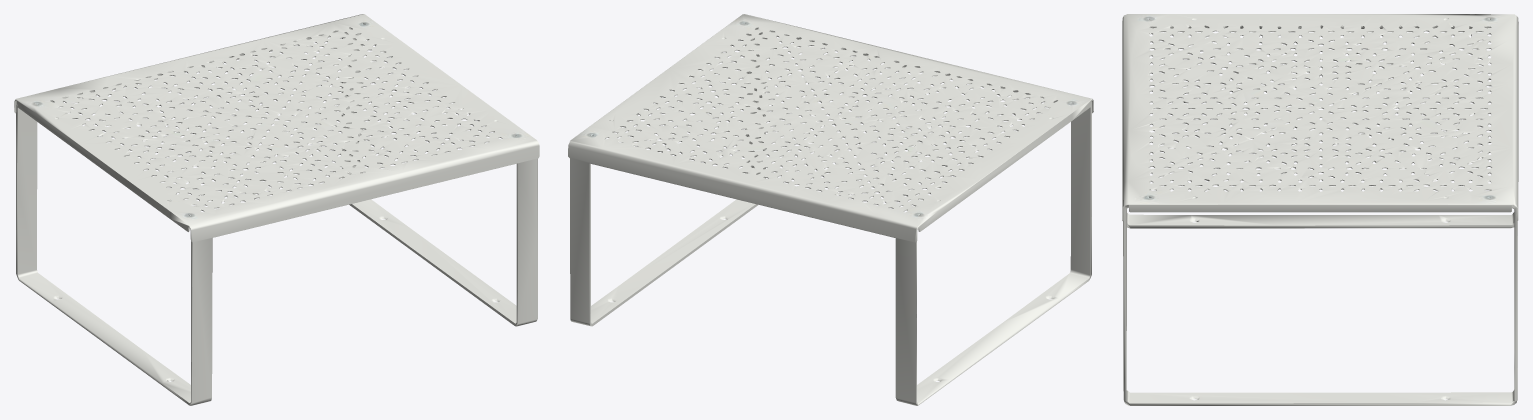
The model's file is variera_poka_wstawiana_60136623.glb.
3 renders of one model, left to right at view 1: azimuth 30°, elevation 25°; view 2: azimuth 150°, elevation 25°; view 3: azimuth 270°, elevation 25°, orthographic. The views are drawn at different scales.
Parts seen in each view (by area): view 1: variera_poka_wstawiana_60136623; view 2: variera_poka_wstawiana_60136623; view 3: variera_poka_wstawiana_60136623.
Part boxes in pixels (x1=…): variera_poka_wstawiana_60136623: x1=14, y1=14, x2=539, y2=405; variera_poka_wstawiana_60136623: x1=568, y1=14, x2=1093, y2=405; variera_poka_wstawiana_60136623: x1=1122, y1=14, x2=1518, y2=405.
Bounding box in the file's own units: 0.3153 × 0.1576 × 0.2778.
Materials: 1 (1 with a texture image).
